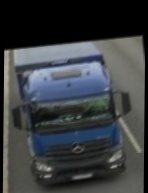truck: (5, 38, 135, 193)
